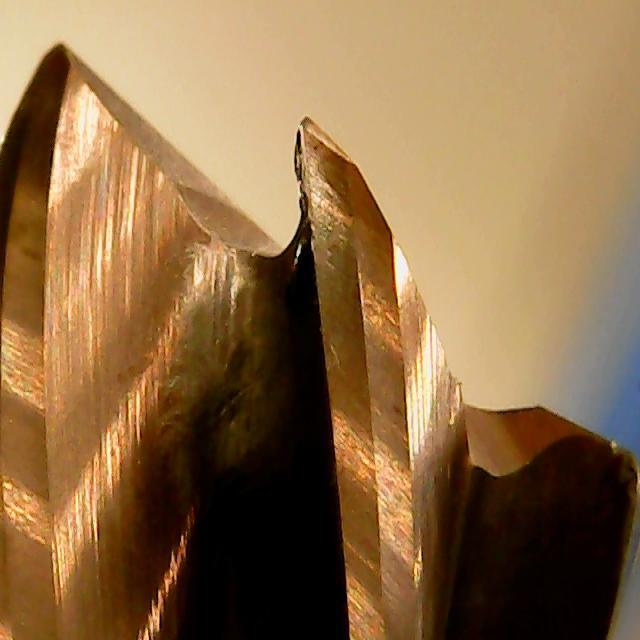Tool-wear-class-1: (270, 108, 405, 326)
